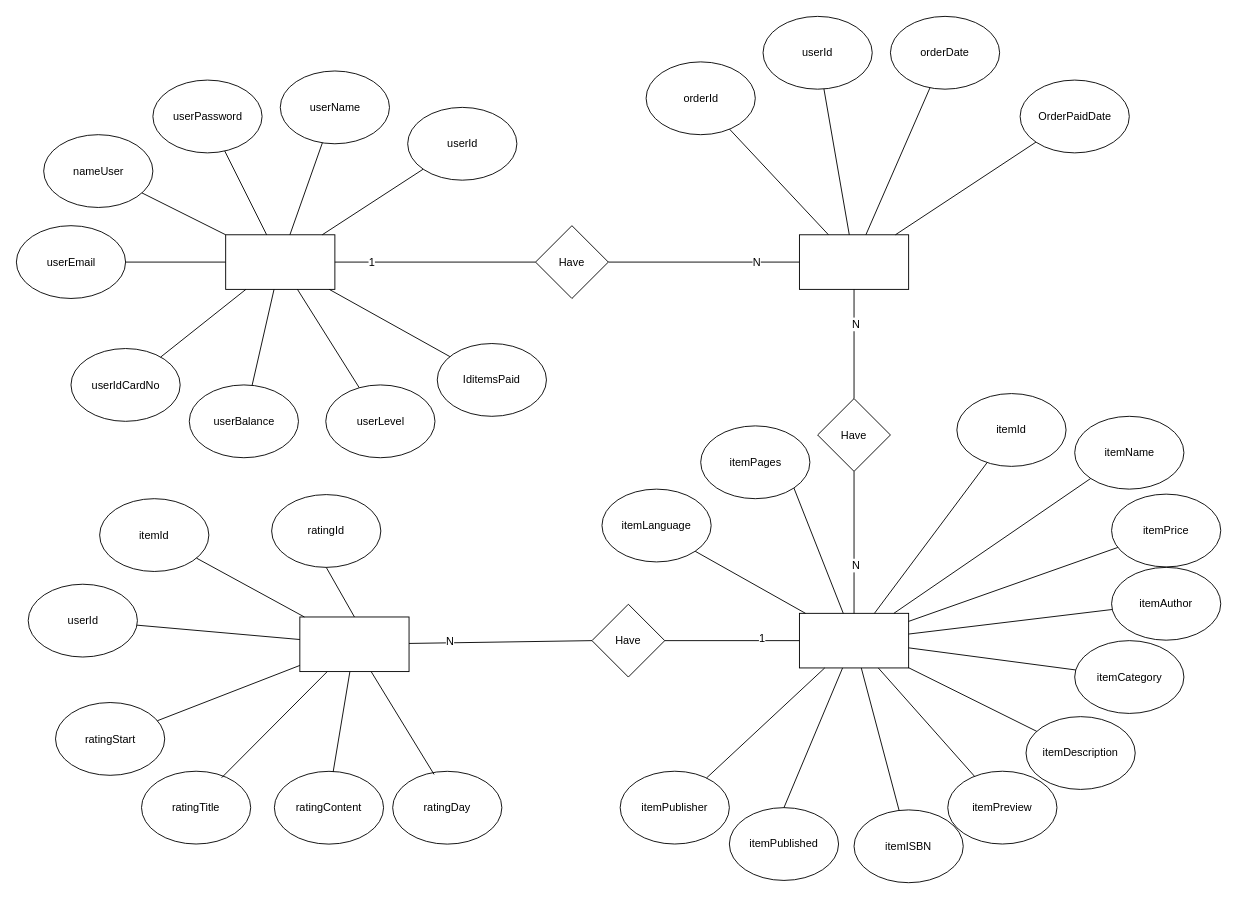
Some shapes in this 1237 by 898 pixel diagram are drawn without their labels. Each missing label, with the box of its shape:
Items: (799, 612, 909, 668)
Orders: (799, 234, 909, 289)
Ratings: (299, 616, 409, 672)
User: (225, 234, 335, 289)
